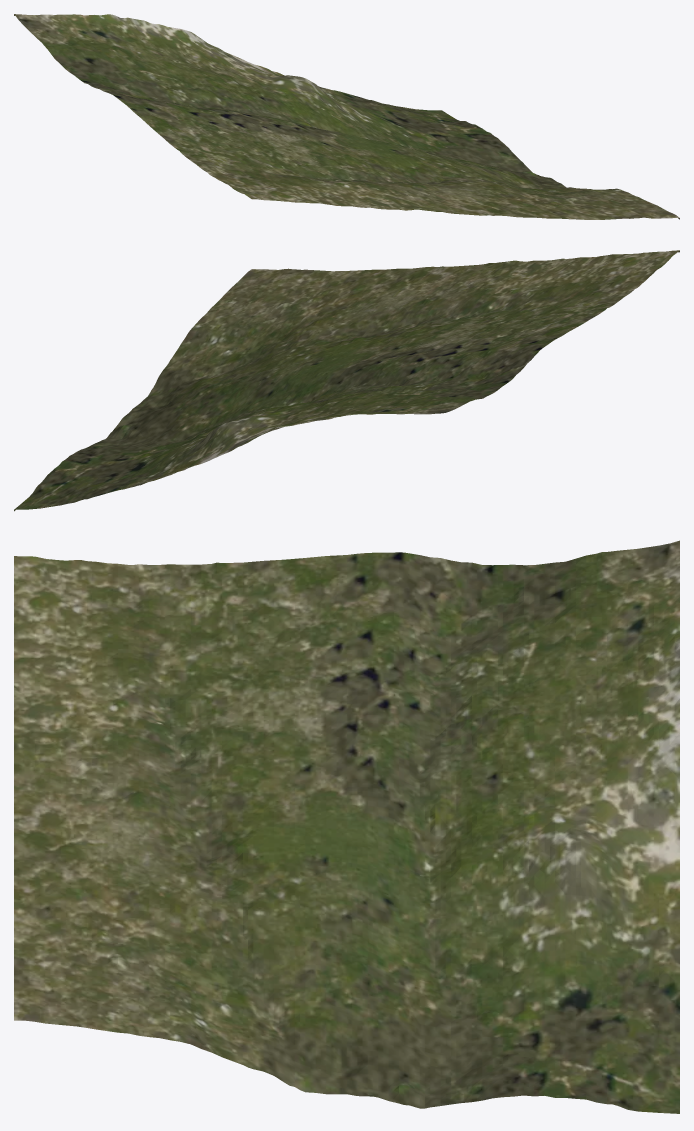
The picture shows the model from 3 angles, top to bottom: view 1: azimuth 30°, elevation 25°; view 2: azimuth 150°, elevation 25°; view 3: azimuth 270°, elevation 25°; orthographic projection. The views are drawn at different scales.
Bounding box in the file's own units: 250 × 113 × 241.
Materials: 1 (1 with a texture image).
